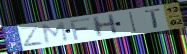F: (69, 17, 92, 41)
H: (91, 13, 120, 39)
I: (128, 10, 139, 33)
M: (40, 21, 70, 45)
T: (143, 7, 163, 30)
Z: (19, 24, 46, 48)
